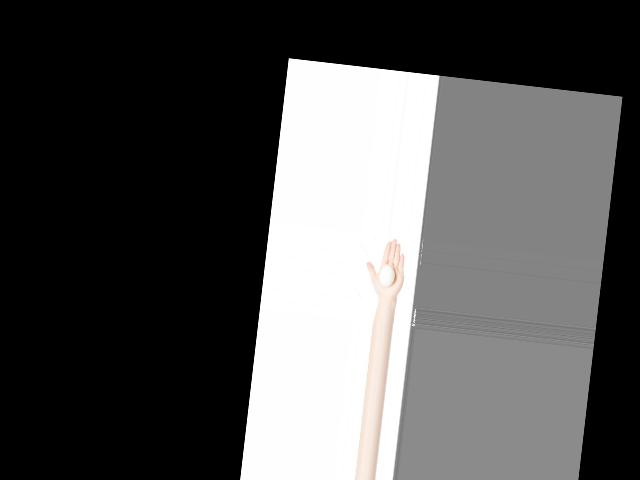egg: (378, 264, 395, 286)
